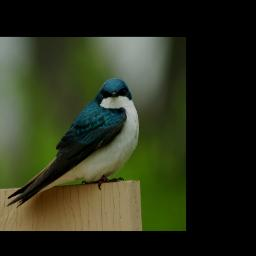Swallow: (4, 77, 141, 209)
